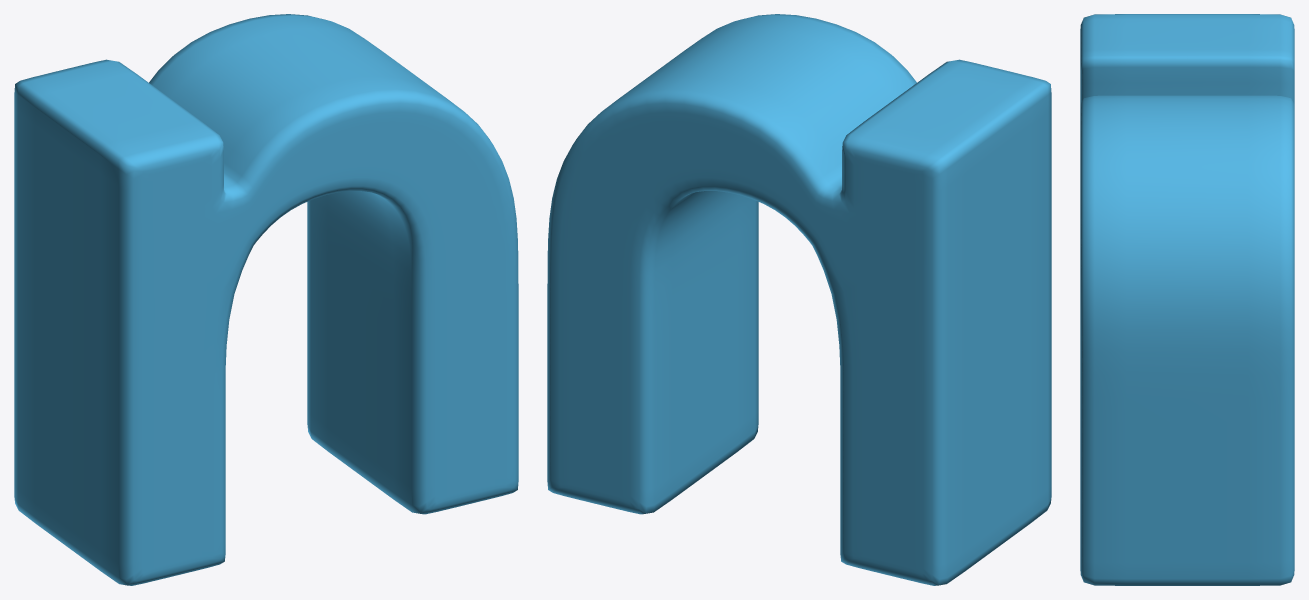
File: n-Bsrp4Vk5.glb
3 renders of one model, left to right at view 1: azimuth 30°, elevation 25°; view 2: azimuth 150°, elevation 25°; view 3: azimuth 270°, elevation 25°, orthographic. The views are drawn at different scales.
Parts seen in each view (by area): view 1: n; view 2: n; view 3: n.
Boxes of the visible parts, <box> form: n: <box>14,14,518,585</box>; n: <box>547,14,1051,585</box>; n: <box>1080,14,1294,585</box>.
Size of the model in its own units: 0.7923 by 0.8295 by 0.4.
